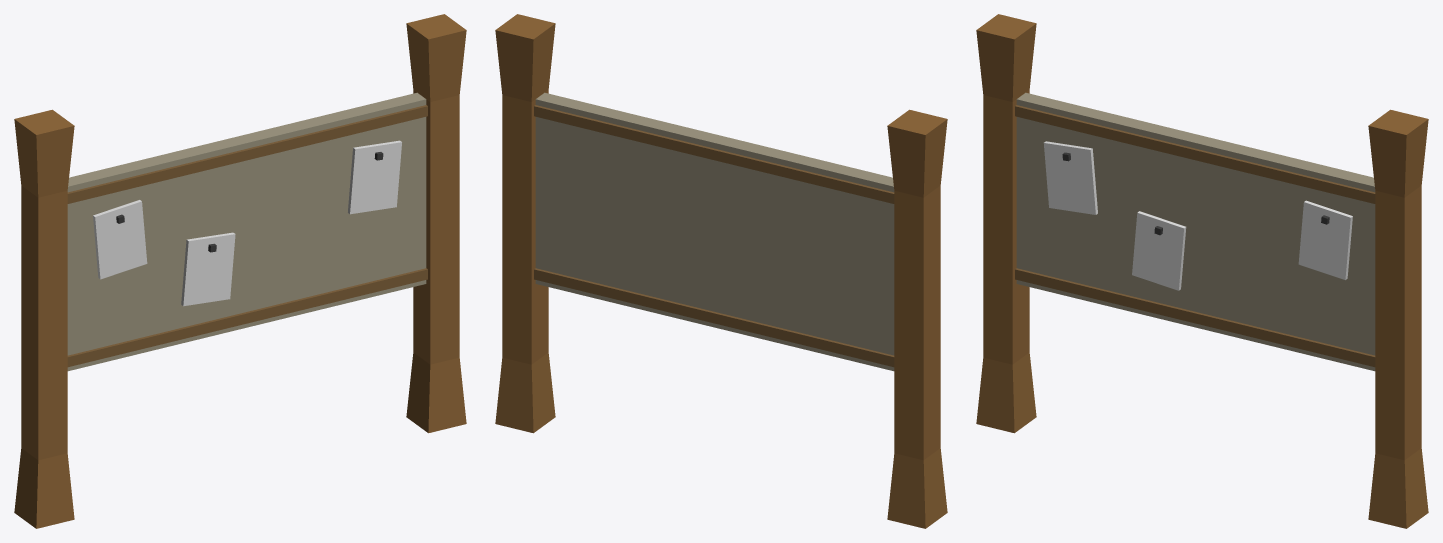
File: JobBoard_Full.fbx
The picture shows the model from 3 angles, left to right: view 1: azimuth 30°, elevation 25°; view 2: azimuth 150°, elevation 25°; view 3: azimuth 330°, elevation 25°; orthographic projection.
Visible parts, largest first — view 1: Cube; view 2: Cube; view 3: Cube.
Boxes of the visible parts, x1=… form: Cube: x1=14, y1=14, x2=466, y2=528; Cube: x1=495, y1=14, x2=947, y2=528; Cube: x1=976, y1=14, x2=1428, y2=528.
Bounding box in the file's own units: 0.39 × 4.39 × 3.84.
